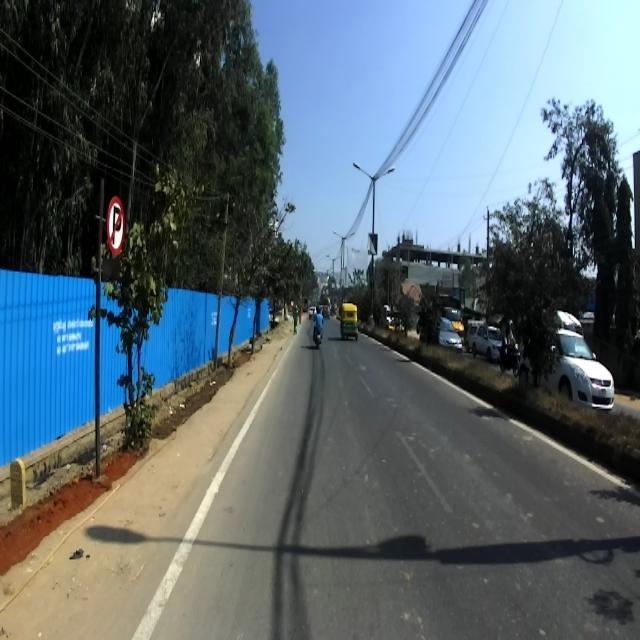car: (518, 328, 614, 413)
